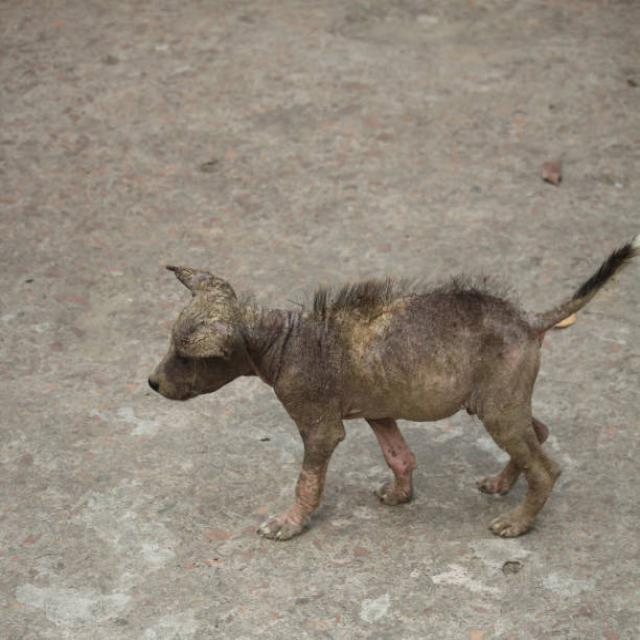mange: (288, 305, 537, 420)
